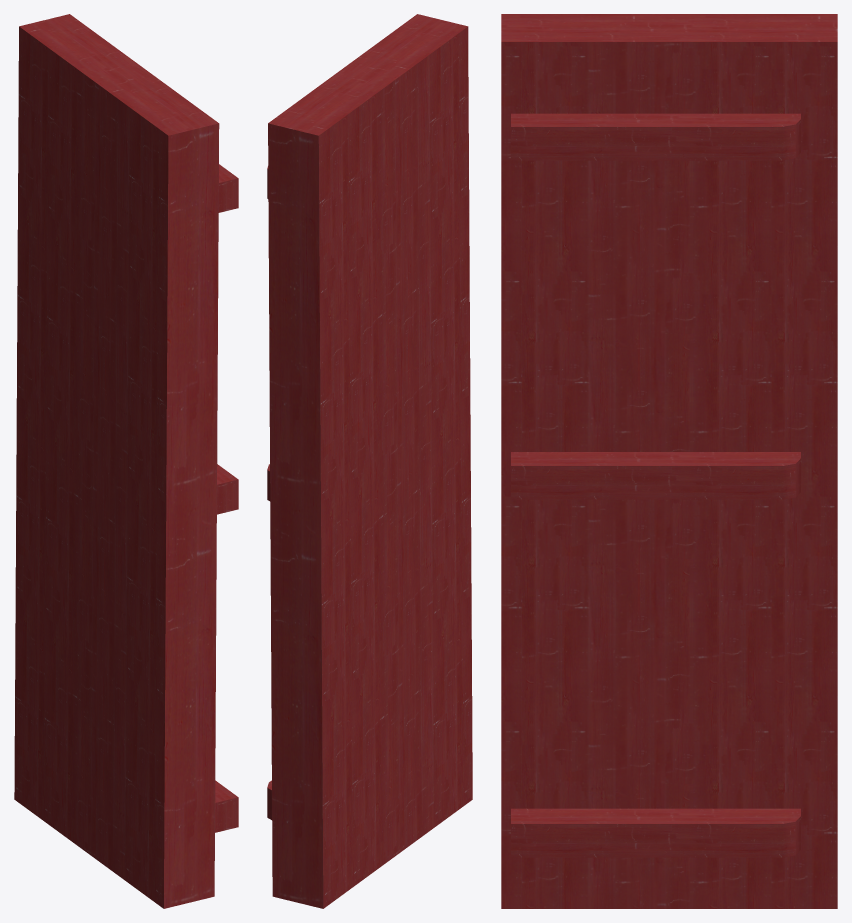
Rendered from SM_D_Wood_6.fbx.
3 renders of one model, left to right at view 1: azimuth 30°, elevation 25°; view 2: azimuth 150°, elevation 25°; view 3: azimuth 270°, elevation 25°, orthographic. The views are drawn at different scales.
Visible parts, largest first — view 1: SM_D_Wood_6; view 2: SM_D_Wood_6; view 3: SM_D_Wood_6.
Part boxes in pixels (x1=…): SM_D_Wood_6: x1=14, y1=14, x2=238, y2=908; SM_D_Wood_6: x1=267, y1=14, x2=472, y2=908; SM_D_Wood_6: x1=501, y1=14, x2=837, y2=908.
Size of the model in its own units: 23.95 by 78.45 by 224.
Materials: 1 (1 with a texture image).
